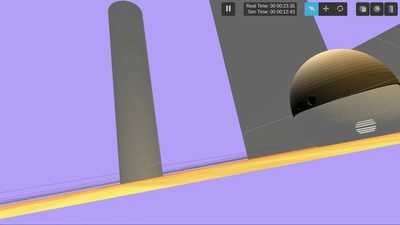mira_robot: (290, 48, 400, 137)
